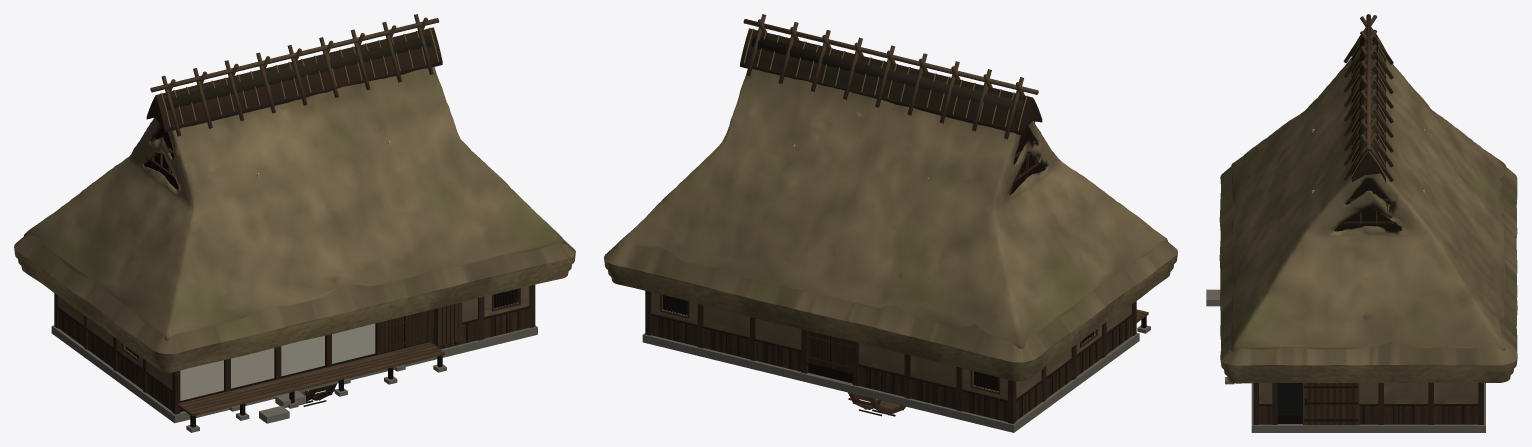
Rendered from village-ultra.glb.
The picture shows the model from 3 angles, left to right: view 1: azimuth 30°, elevation 25°; view 2: azimuth 150°, elevation 25°; view 3: azimuth 270°, elevation 25°; orthographic projection. The views are drawn at different scales.
Parts seen in each view (by area): view 1: minka0_near, minka1_near; view 2: minka0_near, suisha_wheel_near; view 3: minka0_near.
Boxes of the visible parts, x1,y1,x2,y2 form: minka0_near: [14, 14, 575, 432]; minka1_near: [175, 188, 405, 411]; minka0_near: [604, 14, 1177, 432]; suisha_wheel_near: [848, 392, 905, 416]; minka0_near: [1206, 14, 1517, 432].
Bounding box in the file's own units: 14.83 × 11.87 × 9.97.
